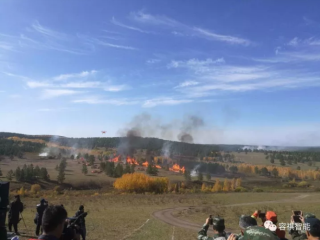fire: (112, 150, 186, 175)
smoke: (116, 113, 207, 152), (33, 137, 84, 165)
